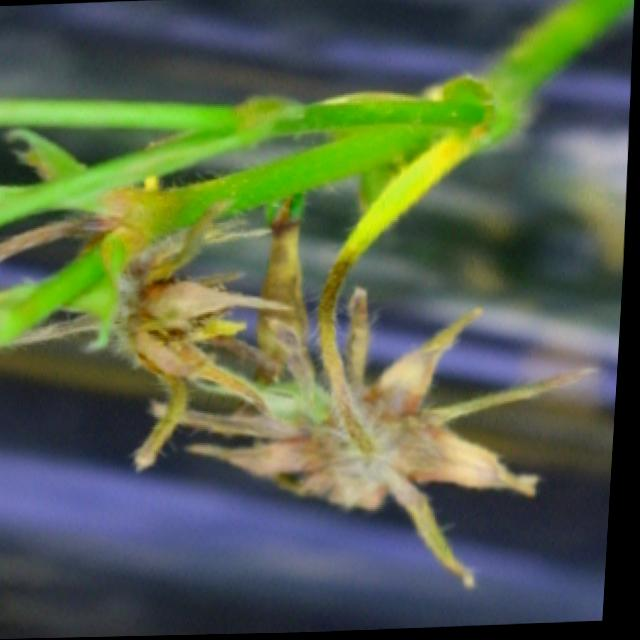Gray Mold: (155, 290, 597, 589)
